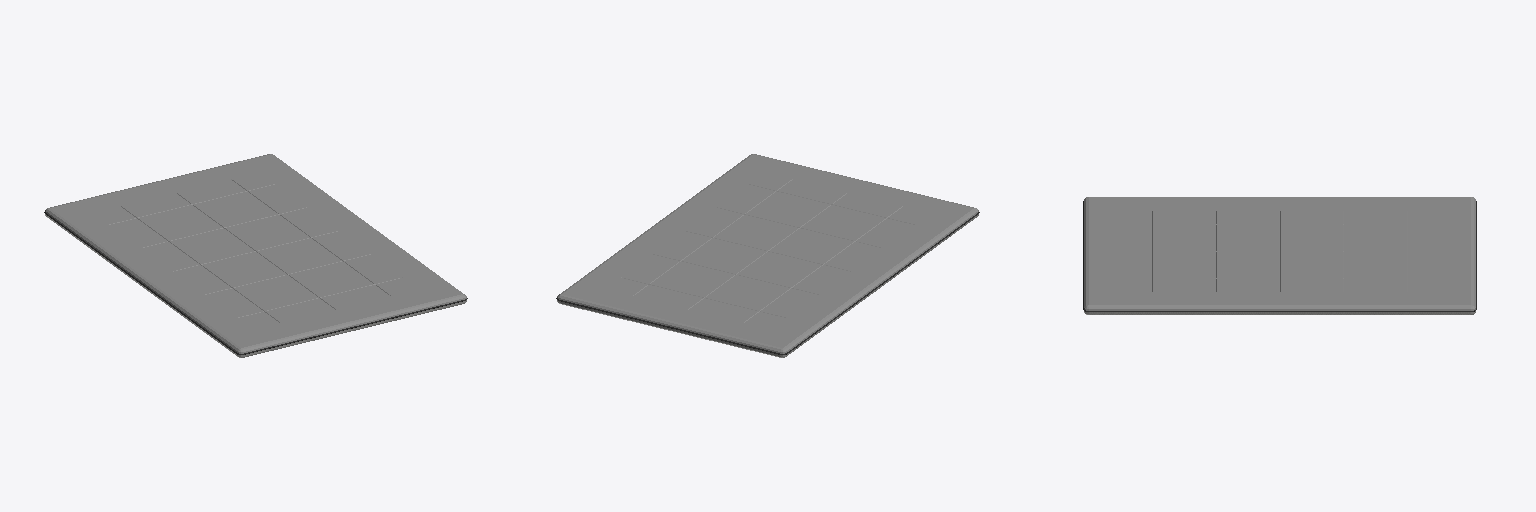
The picture shows the model from 3 angles: view 1: azimuth 30°, elevation 25°; view 2: azimuth 150°, elevation 25°; view 3: azimuth 270°, elevation 25°; orthographic projection.
Visible parts, largest first — view 1: black.003; view 2: black.003; view 3: black.003.
Part boxes in pixels (x1,y1,x2,y2): black.003: (44, 154, 467, 357); black.003: (556, 154, 979, 357); black.003: (1083, 197, 1476, 314).
Bounding box in the file's own units: 3.67 × 0.1462 × 5.43.
3 materials, 1 textured.